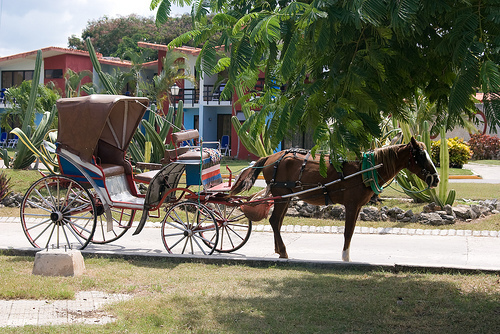horse: (235, 137, 440, 264)
